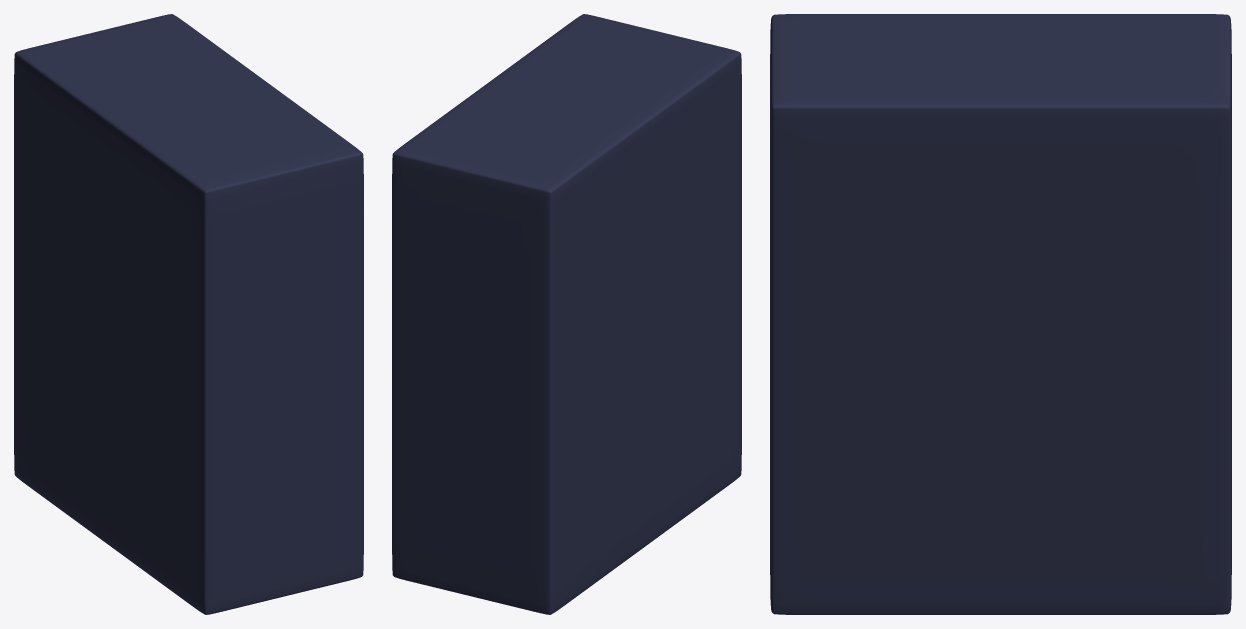
3 renders of one model, left to right at view 1: azimuth 30°, elevation 25°; view 2: azimuth 150°, elevation 25°; view 3: azimuth 270°, elevation 25°, orthographic. The views are drawn at different scales.
Parts seen in each view (by area): view 1: PC; view 2: PC; view 3: PC.
Part boxes in pixels (box(x1,y1,x2,y2)): PC: box(14, 14, 363, 614); PC: box(392, 14, 741, 614); PC: box(770, 14, 1231, 614).
Size of the model in its own units: 3.33 by 8.42 by 6.9.
